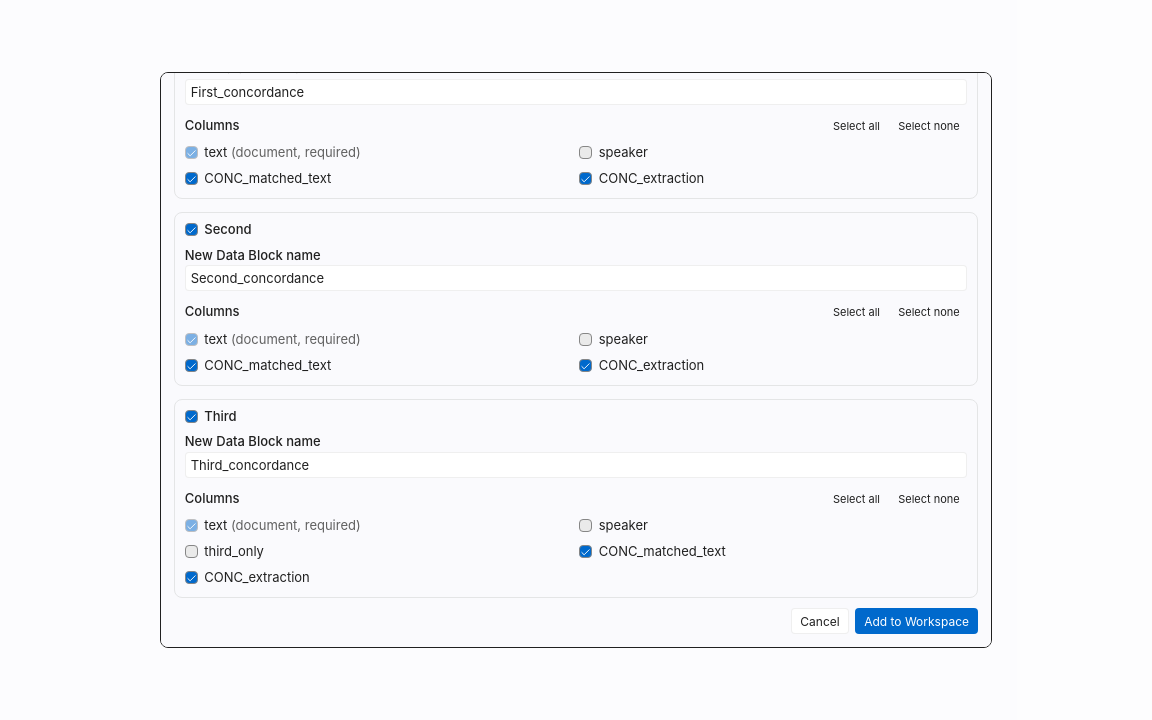
Test: ResultAddToWorkspaceDialog › leaves unchecked-source selections untouched while synchronization is active
(page scrolled)
Click the checkbox named "third_only" next to "third_only": (191, 552) top-left (185, 545), bottom-right (198, 558)
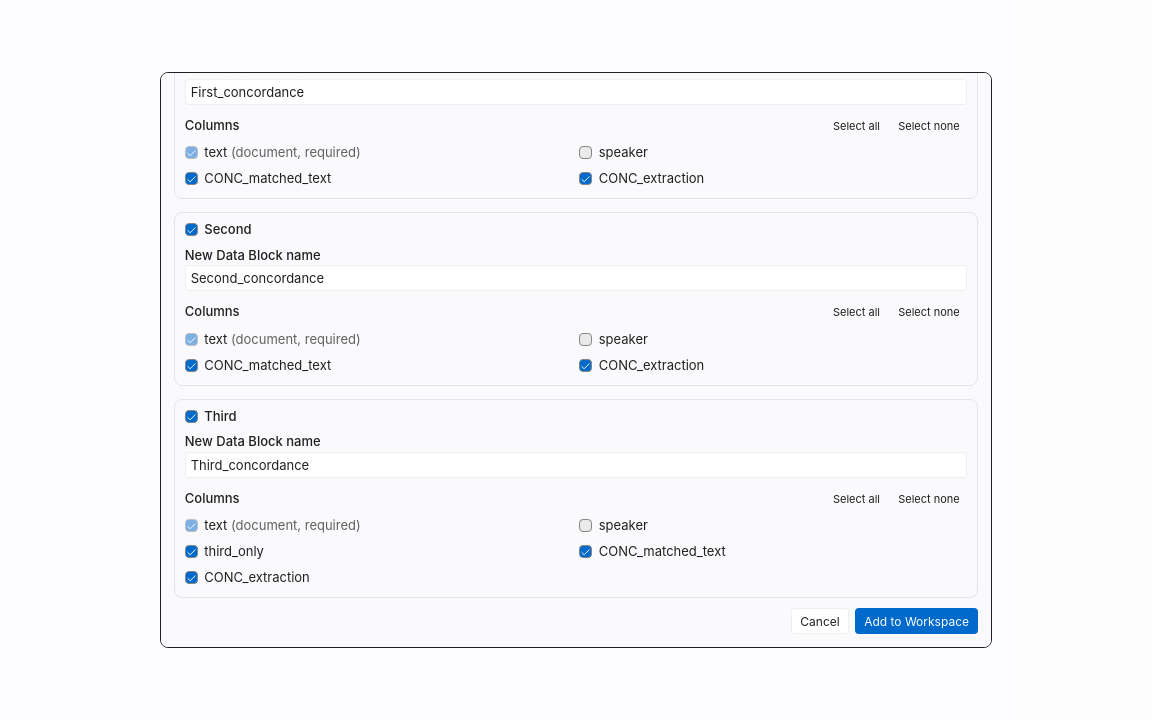
Click the 10th checkbox named "Third": (191, 416) top-left (185, 410), bottom-right (198, 423)
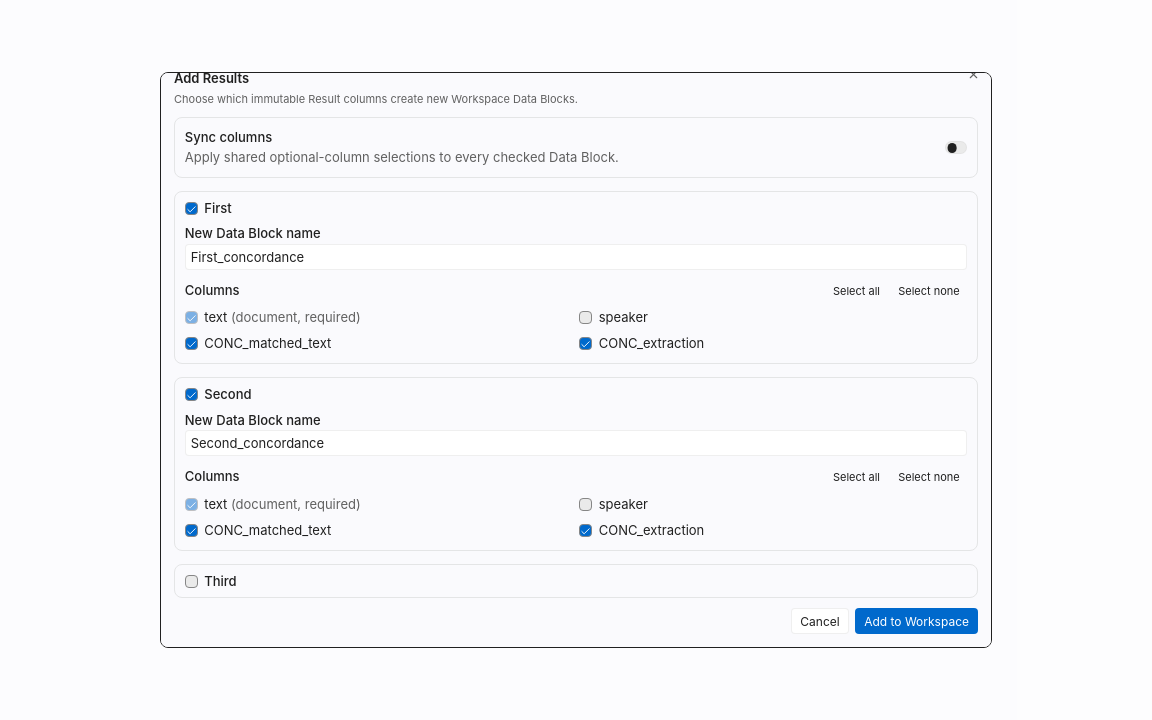
Click the switch named "Sync columns": (956, 148) top-left (944, 141), bottom-right (967, 154)
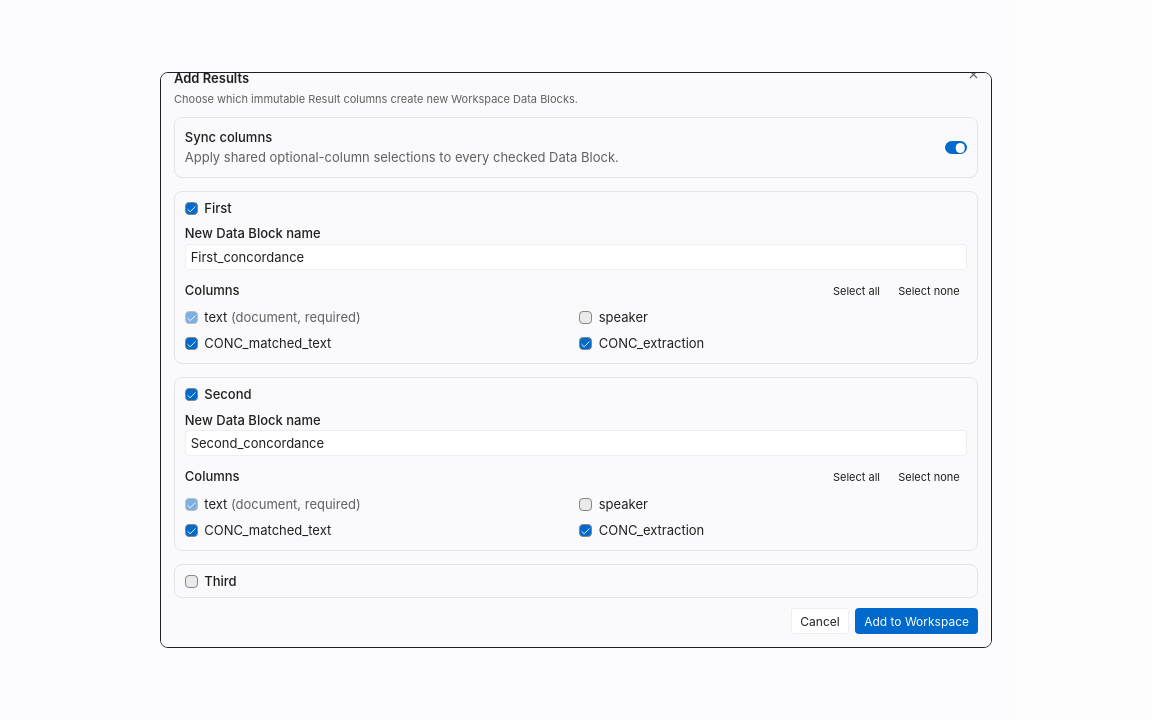
Click the 3rd checkbox named "speaker": (586, 318) top-left (579, 311), bottom-right (592, 324)
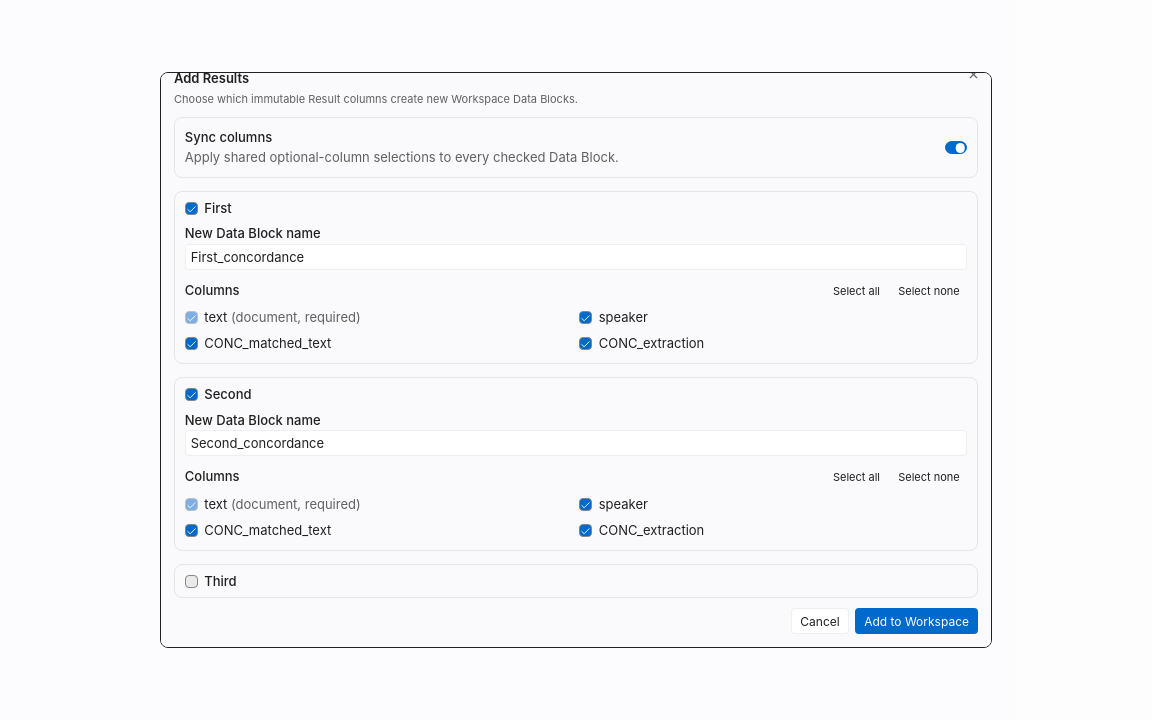
Click the switch named "Sync columns": (956, 148) top-left (944, 141), bottom-right (967, 154)
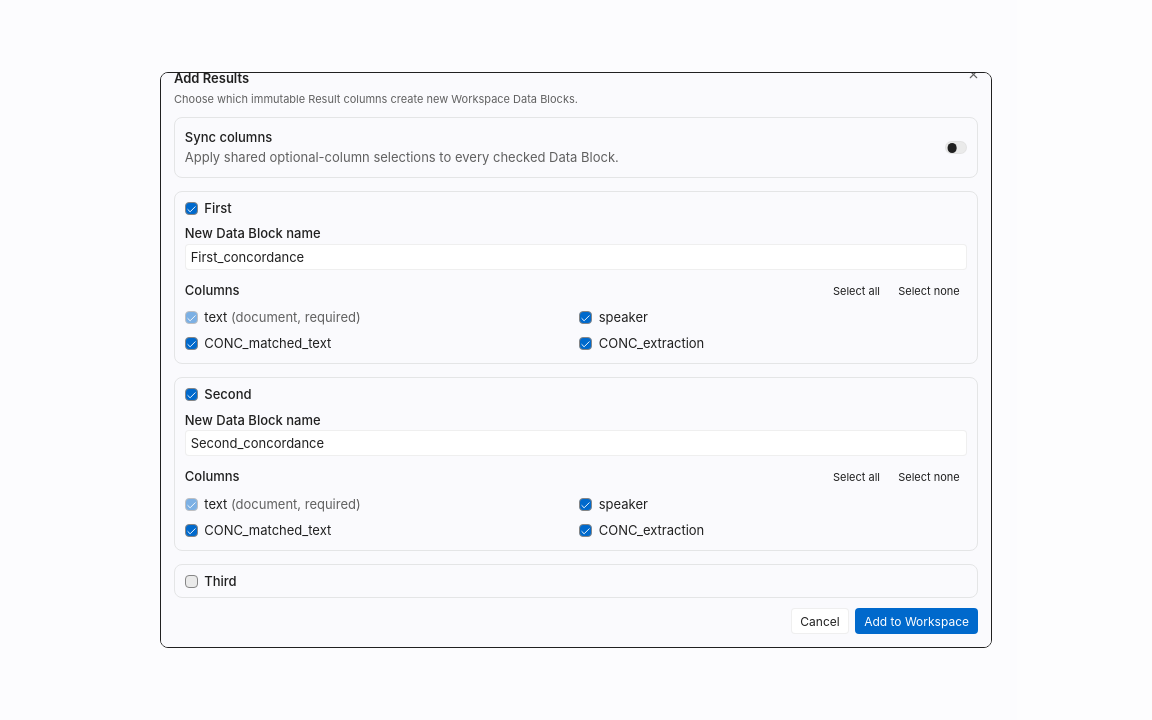
Click the checkbox named "Third" next to "Third": (191, 581) top-left (185, 575), bottom-right (198, 588)
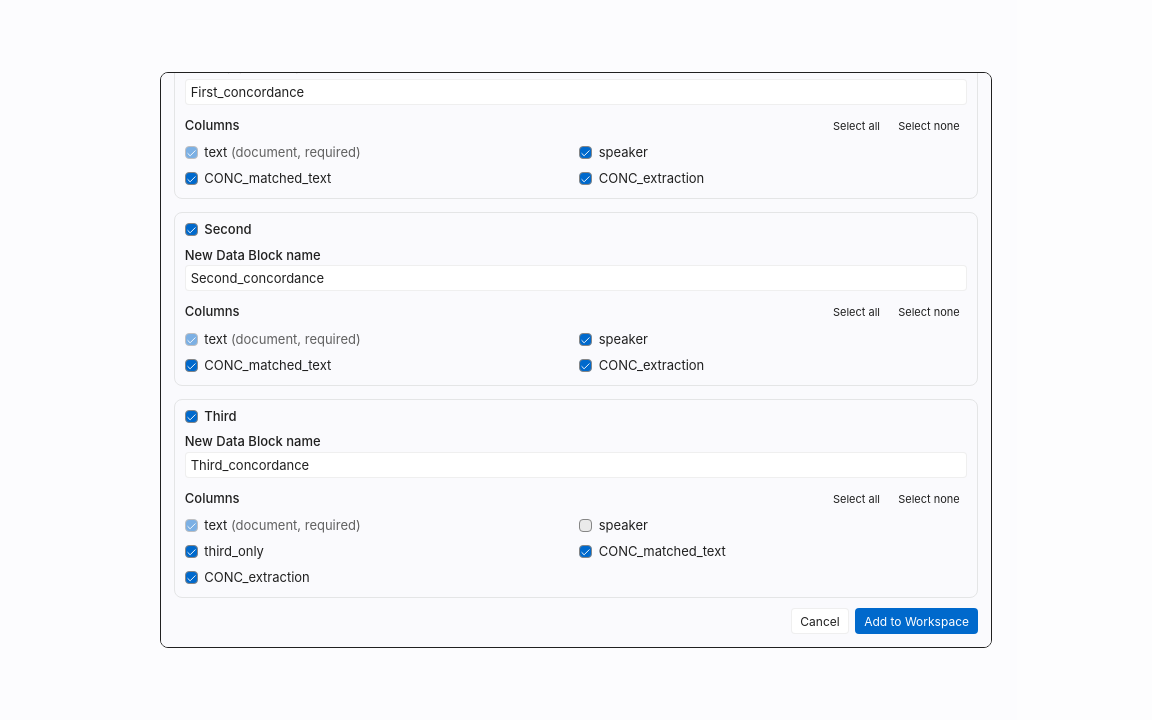
expect the 2nd checkbox named "speaker" is checked: met, box top-left (579, 146), bottom-right (592, 159)
expect the 7th checkbox named "speaker" is checked: met, box top-left (579, 333), bottom-right (592, 346)
expect the checkbox named "third_only" next to "third_only" is checked: met, box top-left (185, 545), bottom-right (198, 558)
